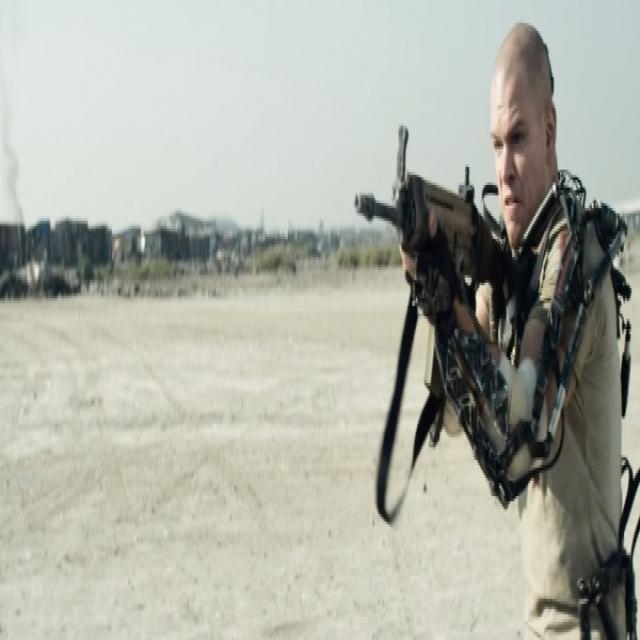rifle: (352, 119, 514, 404)
